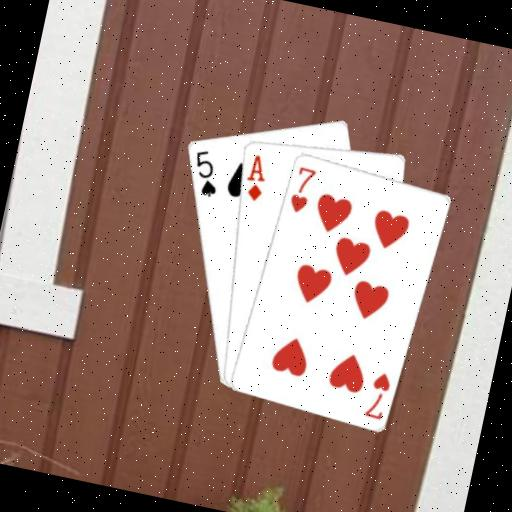5S: (184, 144, 226, 200)
7H: (284, 161, 318, 216), (361, 367, 394, 421)
AD: (239, 150, 271, 203)
